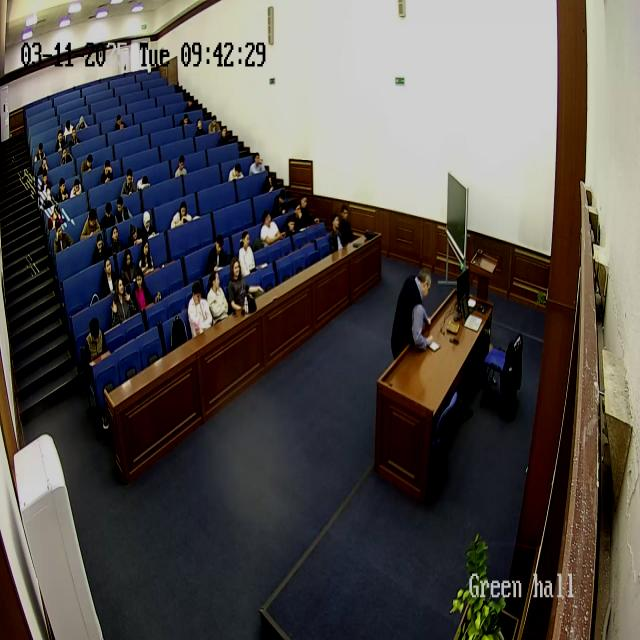person: (391, 269, 435, 359), (83, 317, 110, 432), (228, 257, 256, 315), (188, 280, 212, 339), (206, 270, 230, 326), (110, 276, 134, 326), (130, 269, 154, 315), (260, 209, 284, 248), (237, 231, 256, 279), (98, 257, 118, 301), (208, 234, 228, 274), (339, 204, 357, 246), (52, 219, 72, 256), (137, 239, 156, 277), (119, 247, 137, 287), (329, 214, 347, 254), (80, 207, 100, 241), (171, 200, 193, 229), (299, 195, 318, 228), (138, 210, 157, 242), (106, 222, 123, 255), (100, 200, 117, 232), (92, 233, 108, 266), (114, 195, 130, 224), (121, 168, 137, 197), (47, 204, 64, 230), (274, 185, 288, 216), (54, 177, 70, 204), (68, 175, 84, 200), (249, 152, 265, 176), (100, 159, 114, 186), (263, 172, 279, 195), (80, 153, 94, 177), (174, 154, 188, 178), (67, 121, 81, 145), (54, 130, 68, 153), (228, 161, 244, 181), (43, 183, 56, 206), (59, 145, 73, 166), (219, 124, 233, 145), (286, 214, 297, 238), (194, 117, 207, 137), (33, 140, 47, 158), (208, 114, 220, 134), (74, 112, 87, 130), (39, 158, 51, 175), (115, 114, 126, 132), (38, 174, 50, 190), (180, 112, 192, 127), (295, 203, 304, 221), (185, 97, 198, 106)
